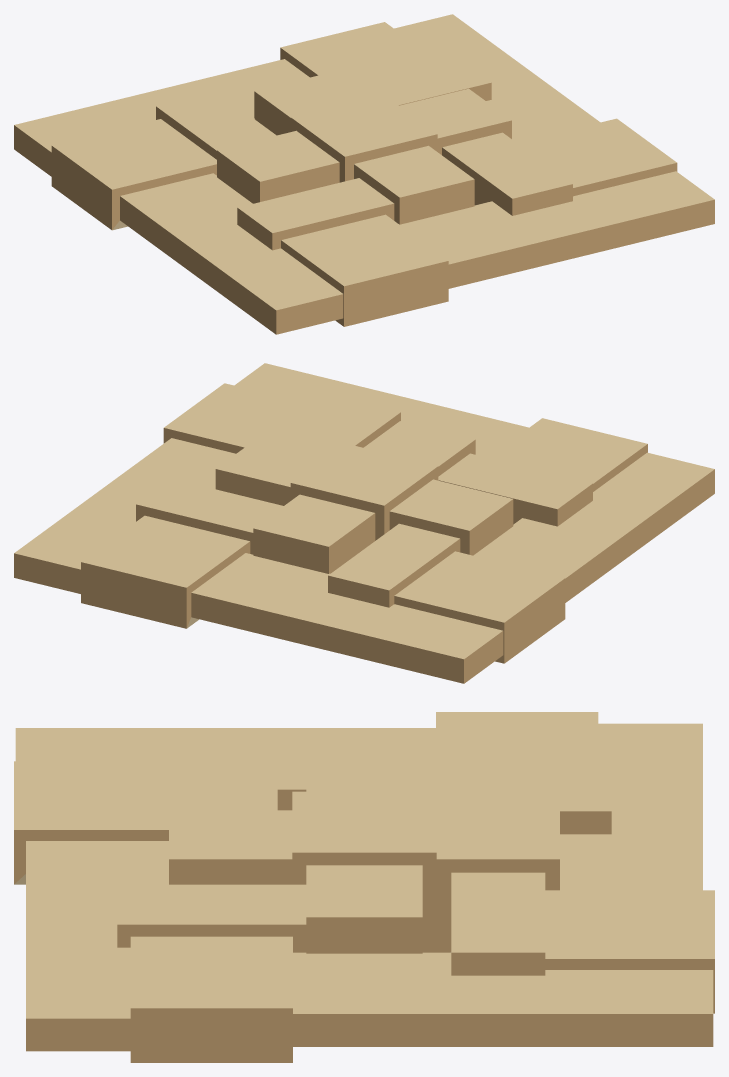
File: Stage.fbx
The picture shows the model from 3 angles, top to bottom: view 1: azimuth 30°, elevation 25°; view 2: azimuth 150°, elevation 25°; view 3: azimuth 270°, elevation 25°; orthographic projection. The views are drawn at different scales.
Visible parts, largest first — view 1: Stage; view 2: Stage; view 3: Stage.
Boxes of the visible parts, x1,y1,x2,y2 form: Stage: (14, 14, 714, 334); Stage: (14, 363, 714, 683); Stage: (14, 712, 714, 1062).
Size of the model in its own units: 972 by 200 by 972.
